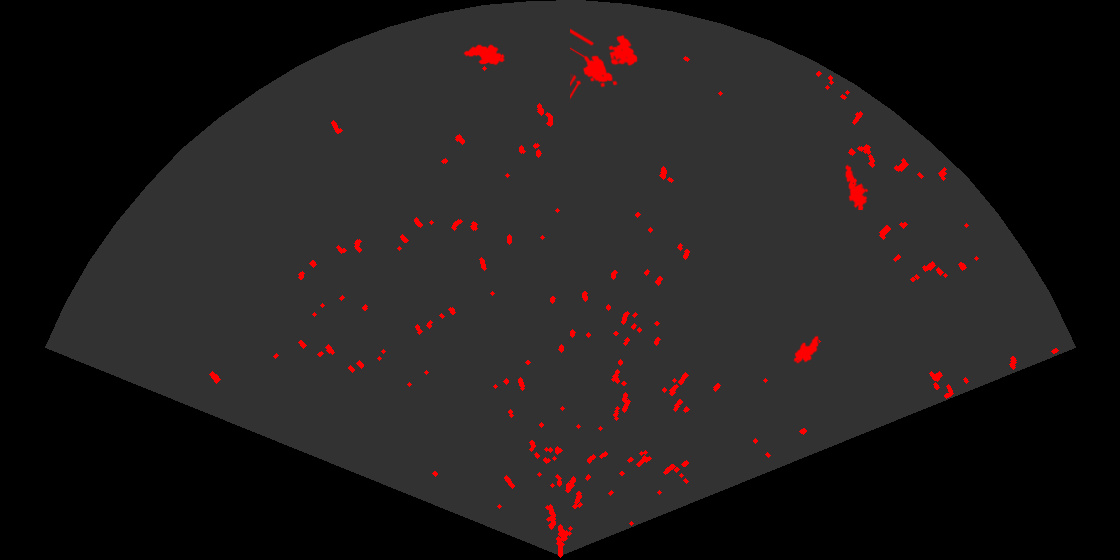AUV: (462, 43, 507, 67), (792, 334, 820, 365)
cage: (570, 27, 639, 101)
frogman: (844, 164, 870, 210)
